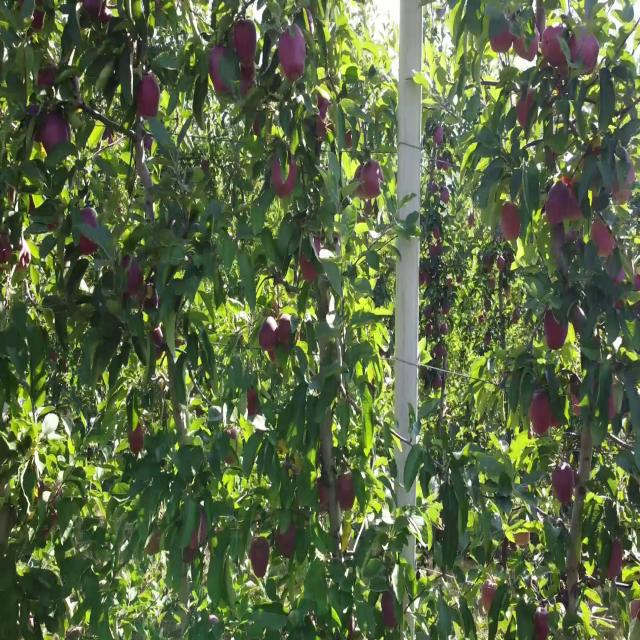apple: (278, 24, 308, 81), (569, 25, 599, 73), (42, 114, 73, 153), (73, 205, 99, 251), (135, 74, 160, 118), (272, 150, 296, 195), (208, 43, 230, 92), (233, 18, 256, 62), (276, 520, 300, 561), (544, 182, 568, 222), (544, 311, 568, 350), (542, 26, 565, 66), (590, 218, 614, 256), (361, 160, 385, 196), (528, 393, 550, 432), (552, 463, 574, 501), (251, 538, 271, 577), (500, 202, 520, 240), (519, 89, 537, 130), (337, 471, 356, 509), (258, 316, 278, 352), (299, 242, 319, 278), (381, 589, 398, 631), (512, 32, 538, 59), (491, 21, 512, 52), (606, 542, 623, 579), (533, 606, 551, 640), (277, 313, 293, 346), (482, 578, 496, 612), (240, 62, 256, 89), (129, 428, 145, 452), (353, 165, 363, 196)
